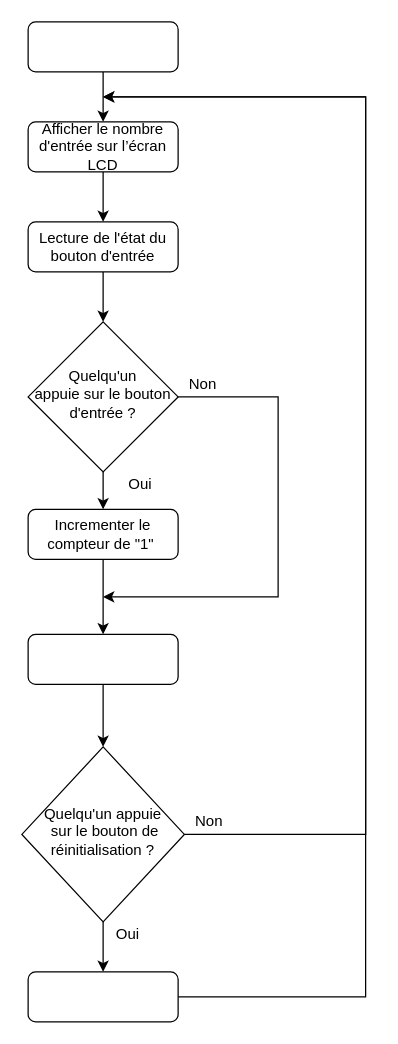
Some shapes in this 398 by 1044 pixel diagram are drawn without their labels. The centre of each missing label's shape, as x and y in pixels:
Début: the point at 102,46
Lecture du bouton de réinitialisation: the point at 102,658
Réinitialisation du compteur: the point at 102,996
